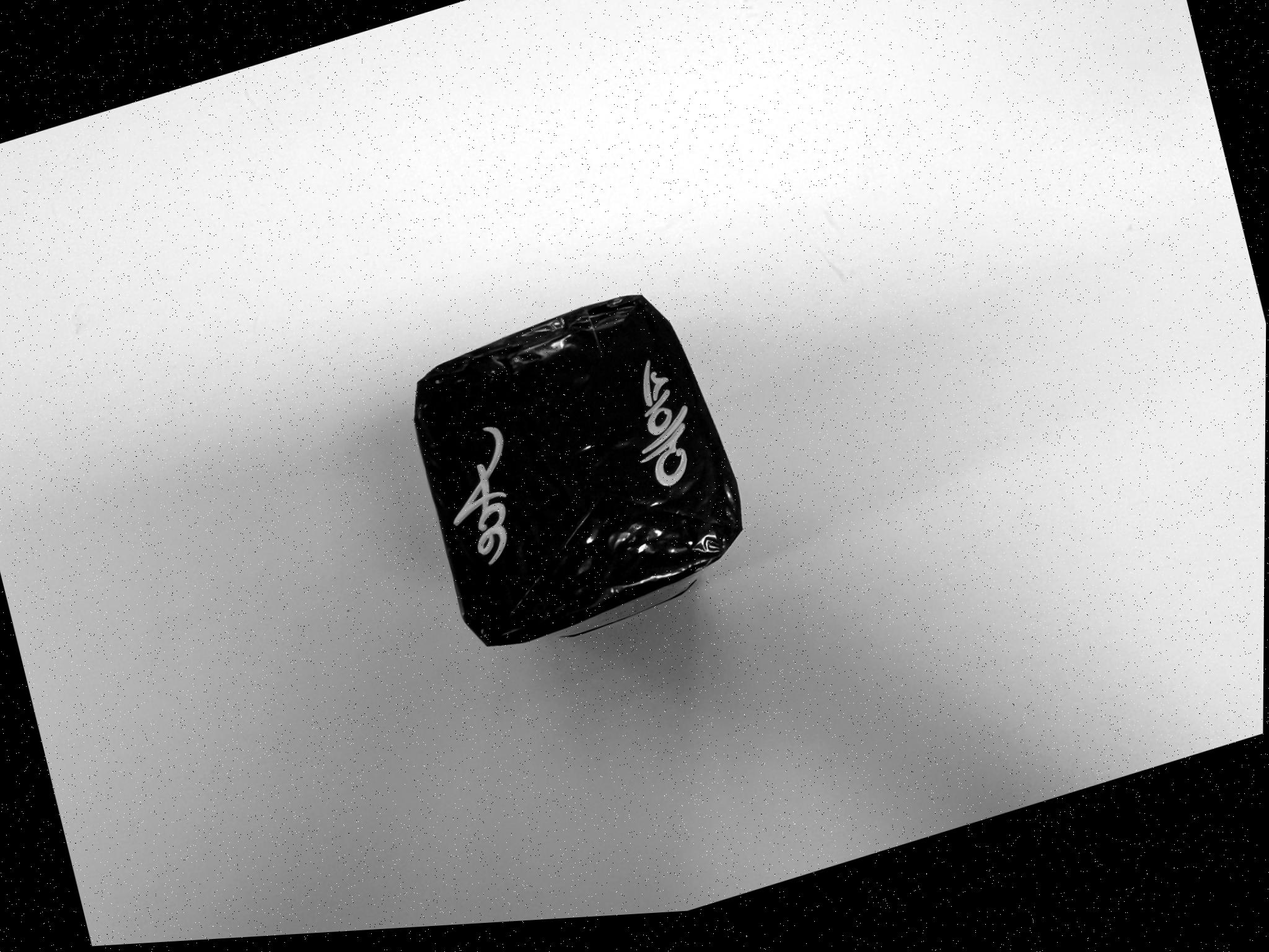cracker_ace: (411, 294, 741, 659)
